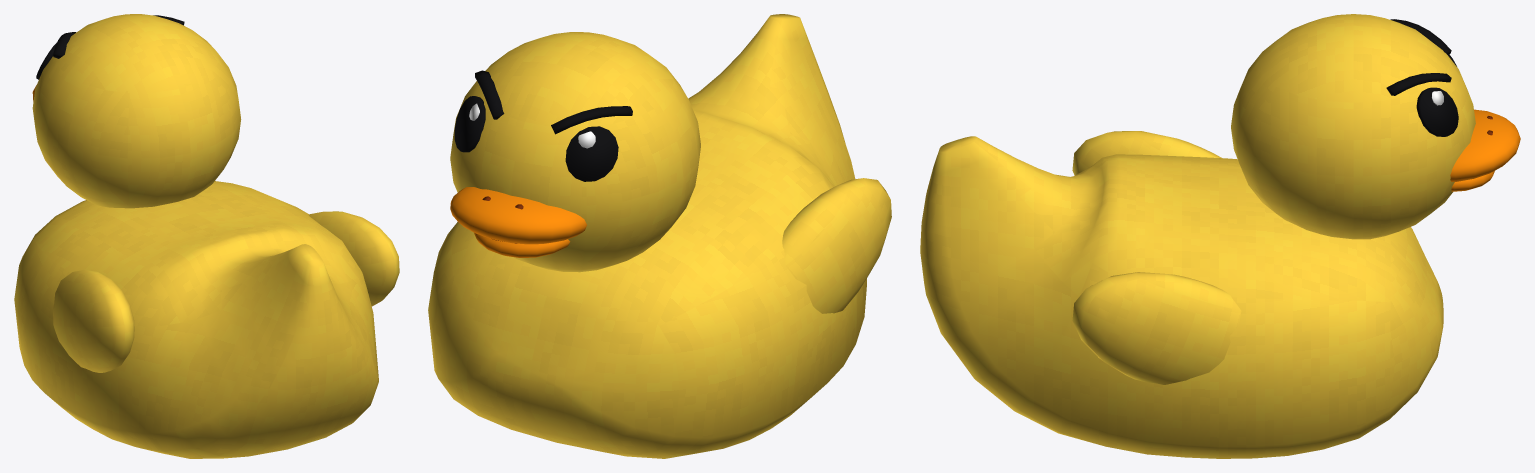
Rendered from pj_duck.glb.
The picture shows the model from 3 angles, left to right: view 1: azimuth 30°, elevation 25°; view 2: azimuth 150°, elevation 25°; view 3: azimuth 270°, elevation 25°; orthographic projection. The views are drawn at different scales.
Visible parts, largest first — view 1: pduck_body_wzA, pduck_head_wzB, pduck_paint_wzN; view 2: pduck_body_wzA, pduck_head_wzB, pduck_paint_wzN; view 3: pduck_body_wzA, pduck_head_wzB, pduck_paint_wzN.
Part boxes in pixels (x1,y1,x2,y2): pduck_body_wzA: (14, 181, 399, 458); pduck_head_wzB: (32, 14, 241, 208); pduck_paint_wzN: (36, 15, 184, 79); pduck_body_wzA: (428, 14, 891, 458); pduck_head_wzB: (450, 32, 700, 272); pduck_paint_wzN: (454, 70, 632, 209); pduck_body_wzA: (920, 131, 1443, 458); pduck_head_wzB: (1231, 14, 1520, 239); pduck_paint_wzN: (1386, 19, 1492, 136).
Bounding box in the file's own units: 0.5902 × 0.6435 × 0.8957.
5 materials, 1 textured.
